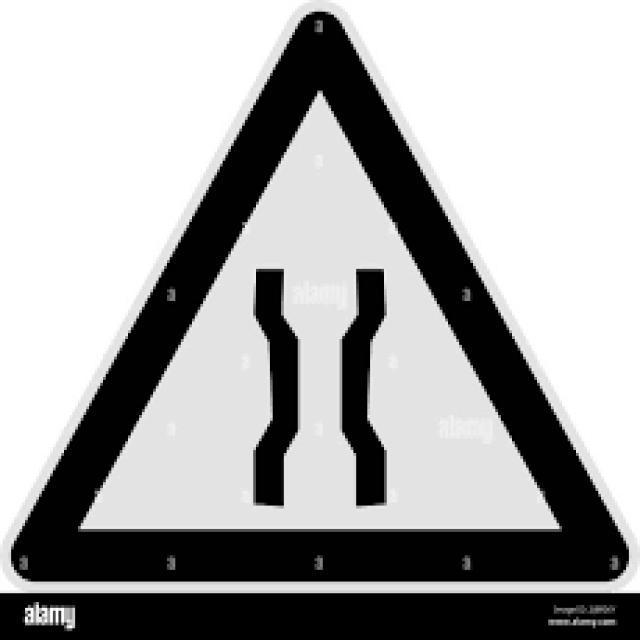narrow bridge ahead: (20, 20, 611, 581)
